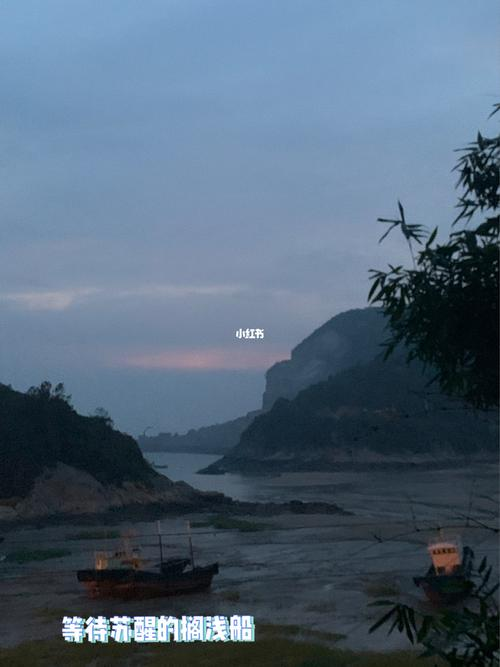mountain: (236, 275, 490, 459)
sky_cloud: (9, 73, 499, 325)
